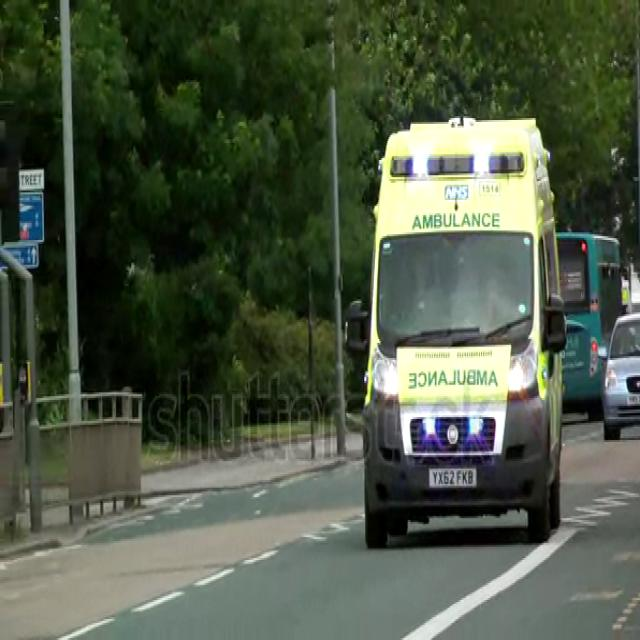ambulance: (345, 108, 570, 544)
